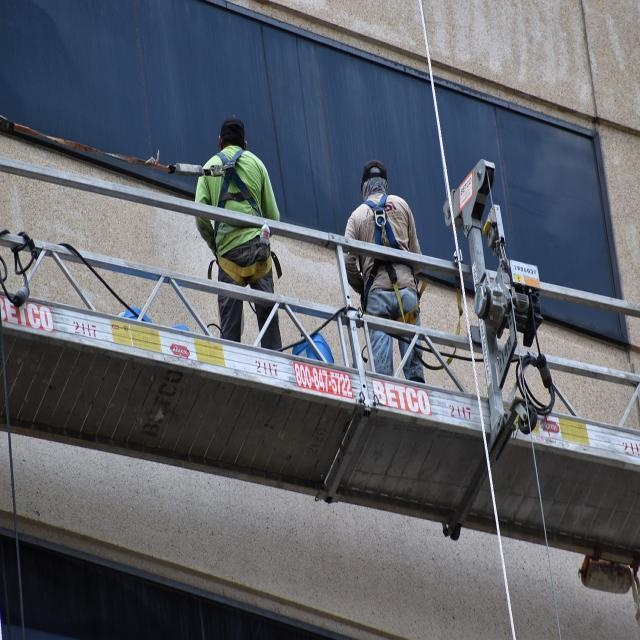Arnes_seguridad: (361, 196, 421, 340), (214, 150, 274, 291)
